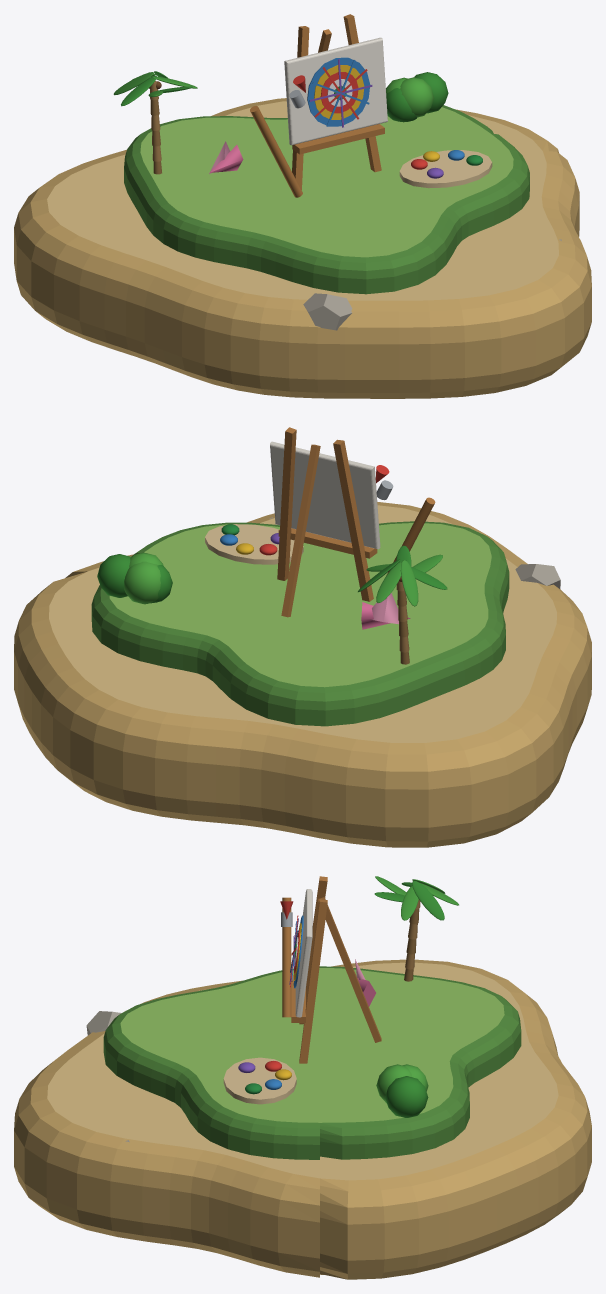
Rendered from palette.glb.
3 renders of one model, top to bottom at view 1: azimuth 30°, elevation 25°; view 2: azimuth 150°, elevation 25°; view 3: azimuth 270°, elevation 25°, orthographic. The views are drawn at different scales.
Visible parts, largest first — view 1: part_000, part_002, part_004, part_006, part_005, part_007; view 2: part_000, part_002, part_006, part_005, part_007; view 3: part_000, part_002, part_005, part_006, part_004.
Part boxes in pixels (x1,y1,x2,y2): part_000: (14,98,591,398); part_002: (209,14,492,197); part_004: (307,57,372,127); part_006: (386,72,448,122); part_005: (113,71,197,174); part_007: (303,293,352,330); part_000: (14,502,591,847); part_002: (205,427,435,629); part_006: (97,552,172,604); part_005: (358,545,447,664); part_007: (515,564,560,588); part_000: (14,959,591,1279); part_002: (223,876,381,1104); part_005: (374,876,458,981); part_006: (376,1064,428,1117); part_004: (289,915,303,988).
Size of the model in its own units: 8.77 by 4.65 by 8.7.
